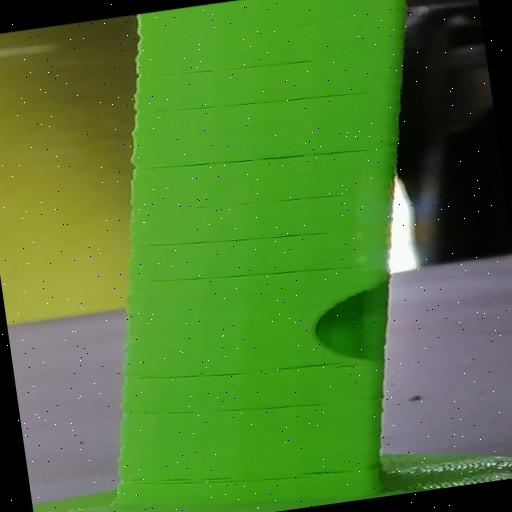cracks: (98, 326, 372, 418), (81, 443, 366, 512), (113, 245, 363, 309), (120, 132, 369, 186), (138, 216, 328, 266)
